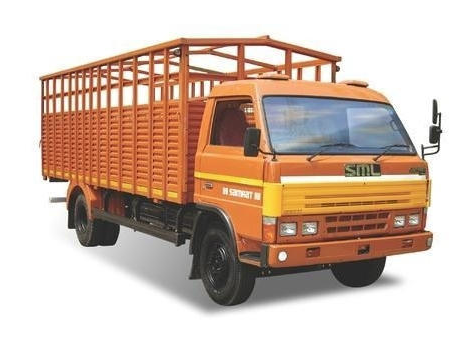truck: (28, 29, 451, 316)
